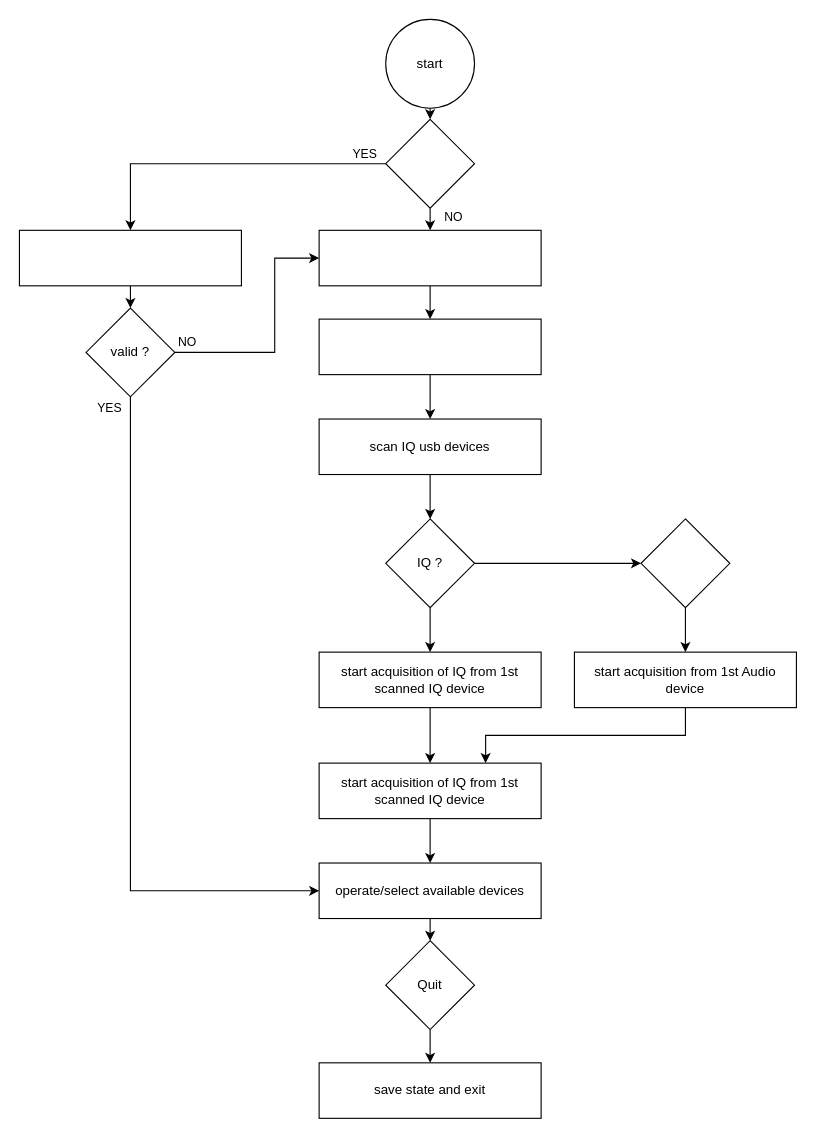
Image size: 816x1138. Some labels were removed from this diagram. Here are the shapes that lost their labels. From the top down, the box of each, then its label:
(385, 118, 475, 208): Saved State?
(18, 229, 241, 286): scan to validate saved state
(318, 229, 541, 286): scan audio input device
(318, 318, 541, 375): scan serial ports
(640, 518, 730, 608): Audio ?
